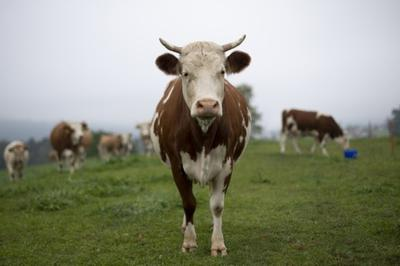cow: (159, 36, 255, 117), (55, 118, 90, 144), (5, 146, 34, 172), (332, 120, 351, 148), (112, 132, 134, 150), (133, 120, 152, 140)
